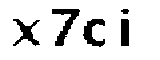7: (50, 8, 79, 51)
c: (82, 16, 110, 50)
i: (119, 5, 138, 50)
x: (9, 15, 43, 50)
